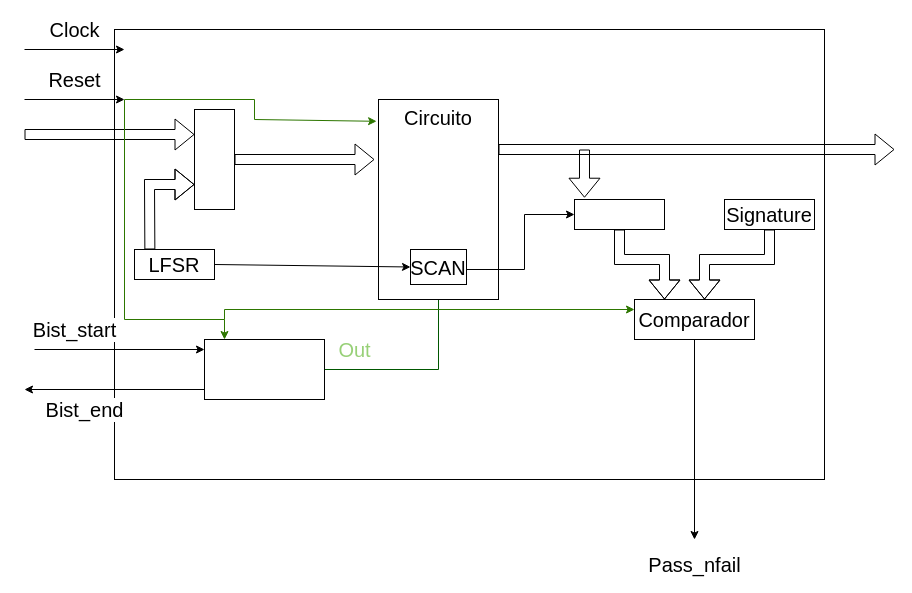
Image size: 912x593. Some labels were removed from this diagram. The centre of each missing label's shape, as x and y in pixels:
Bist Controler: (x=264, y=369)
M U X: (x=214, y=159)
MISR: (x=619, y=214)
